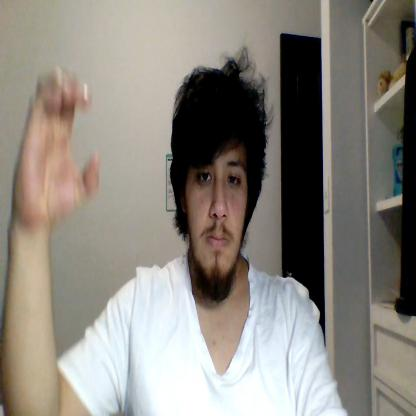C: (13, 65, 98, 223)
